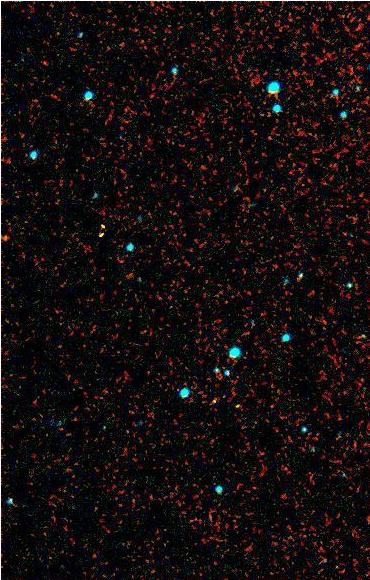star: (0, 226, 22, 256)
